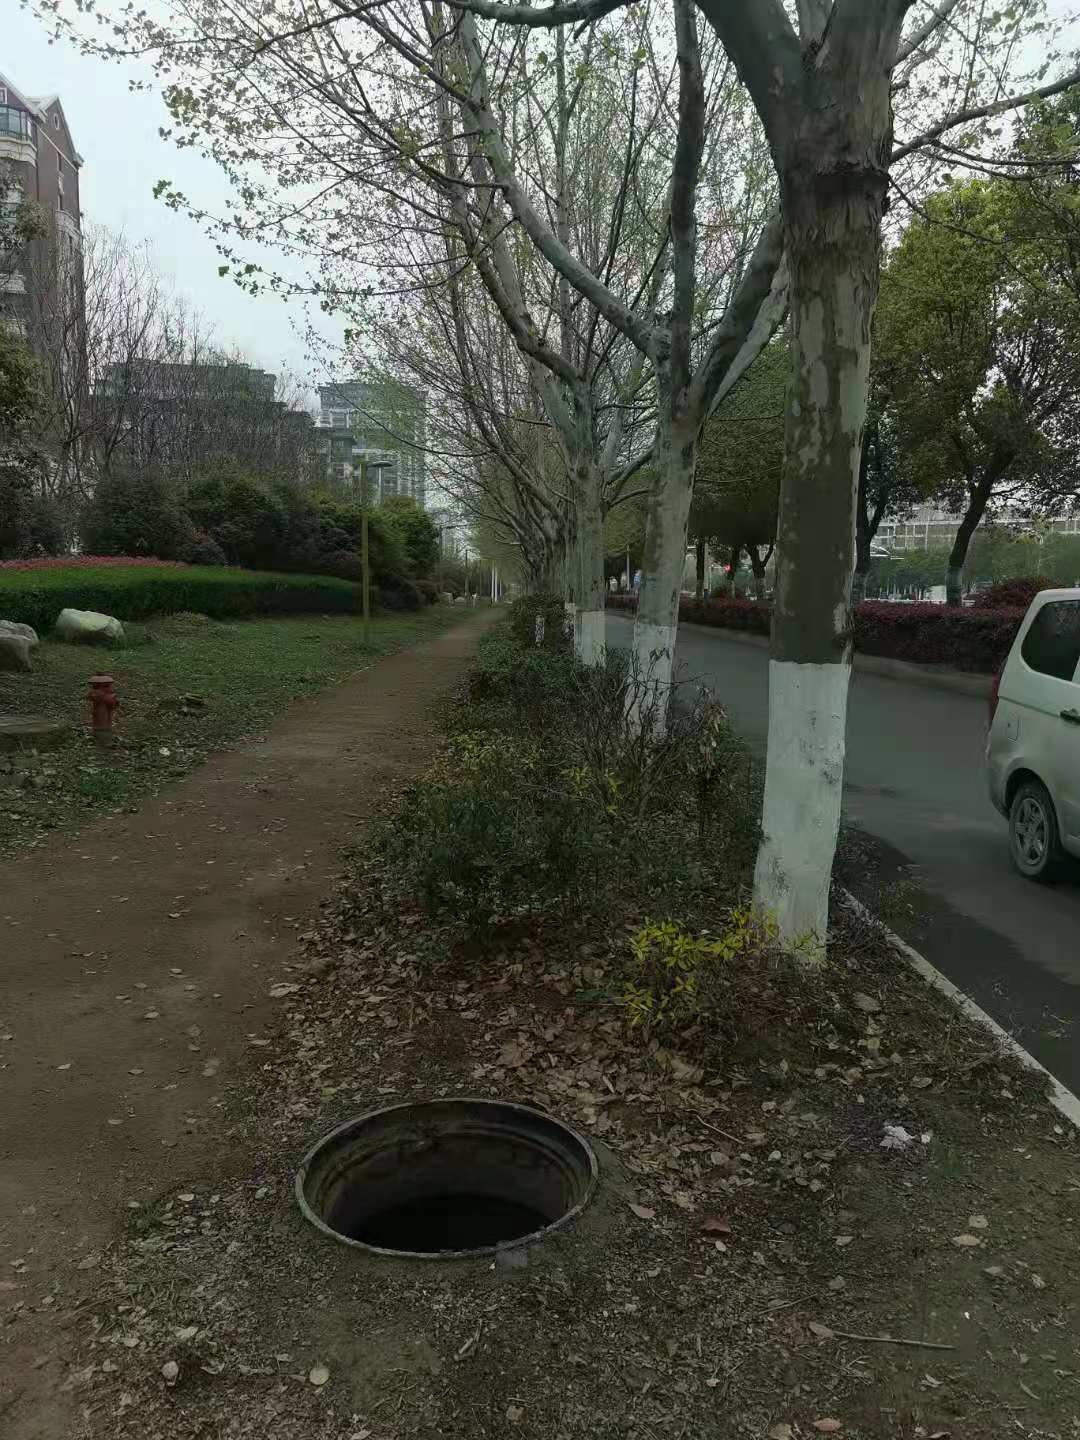lose: (293, 1093, 602, 1262)
